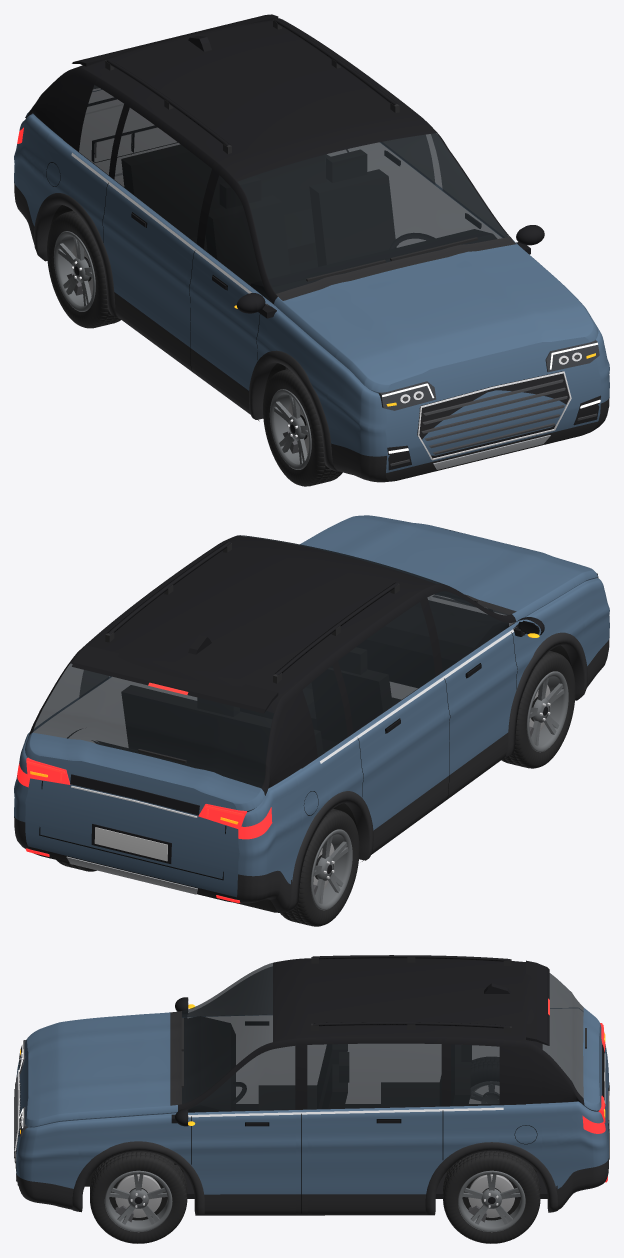
Rendered from suv-compacto.glb.
The picture shows the model from 3 angles, top to bottom: view 1: azimuth 30°, elevation 25°; view 2: azimuth 150°, elevation 25°; view 3: azimuth 270°, elevation 25°; orthographic projection. The views are drawn at different scales.
Visible parts, largest first — view 1: Carroceria, Rueda_DelanteraDer, Rueda_TraseraDer; view 2: Carroceria, Rueda_TraseraDer, Rueda_DelanteraDer; view 3: Carroceria, Rueda_DelanteraIzq, Rueda_TraseraIzq, Rueda_TraseraDer.
Boxes of the visible parts, x1,y1,x2,y2 form: Carroceria: [14, 14, 609, 482]; Rueda_DelanteraDer: [263, 369, 342, 486]; Rueda_TraseraDer: [47, 210, 120, 328]; Carroceria: [14, 515, 609, 913]; Rueda_TraseraDer: [280, 809, 359, 926]; Rueda_DelanteraDer: [501, 651, 575, 768]; Carroceria: [14, 955, 609, 1215]; Rueda_DelanteraIzq: [90, 1151, 187, 1243]; Rueda_TraseraIzq: [443, 1151, 540, 1243]; Rueda_TraseraDer: [470, 1057, 499, 1103].
Size of the model in its own units: 2.19 by 1.75 by 4.52.
